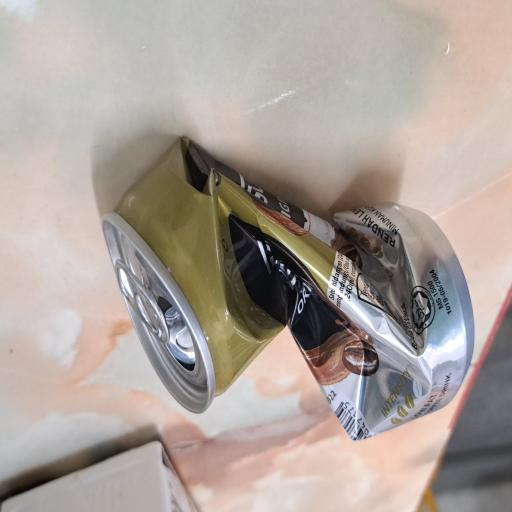can: (28, 68, 422, 376)
pop tab: (340, 162, 399, 244)
